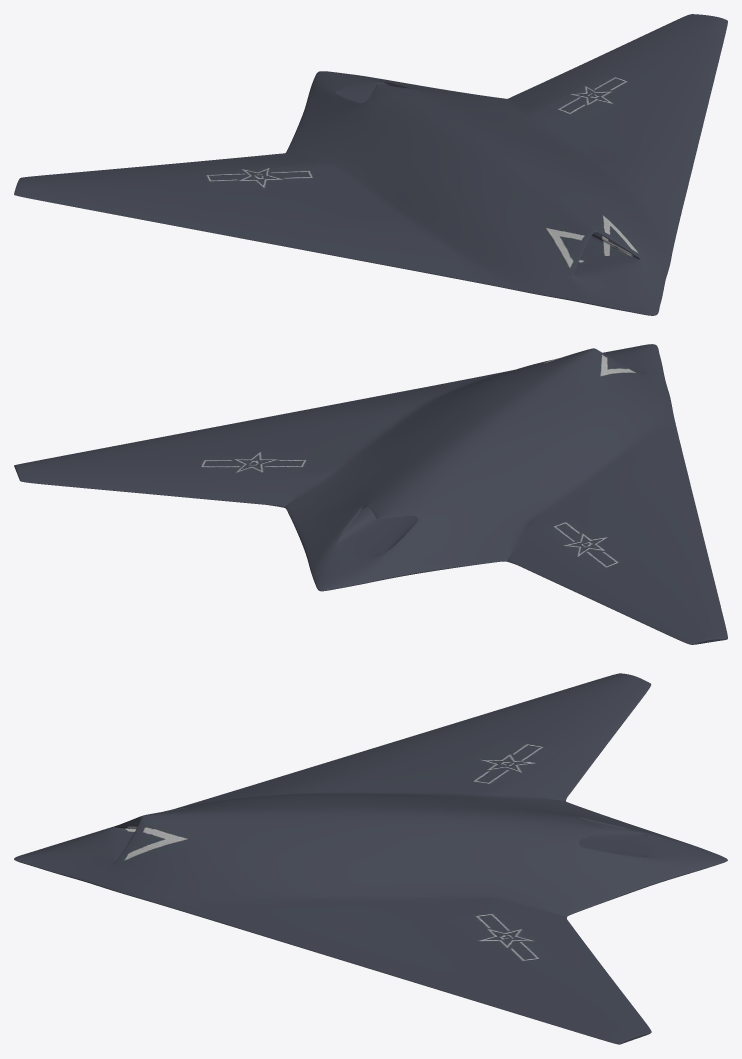
3 views of the same model, one above another, from view 1: azimuth 30°, elevation 25°; view 2: azimuth 150°, elevation 25°; view 3: azimuth 270°, elevation 25° (orthographic). The views are drawn at different scales.
Parts seen in each view (by area): view 1: WRJ_GJ_11; view 2: WRJ_GJ_11; view 3: WRJ_GJ_11.
Part boxes in pixels (x1=…): WRJ_GJ_11: x1=14, y1=14, x2=727, y2=315; WRJ_GJ_11: x1=14, y1=344, x2=727, y2=644; WRJ_GJ_11: x1=14, y1=673, x2=727, y2=1044.
Bounding box in the file's own units: 12.92 × 1.08 × 10.51.
1 material, 1 textured.
